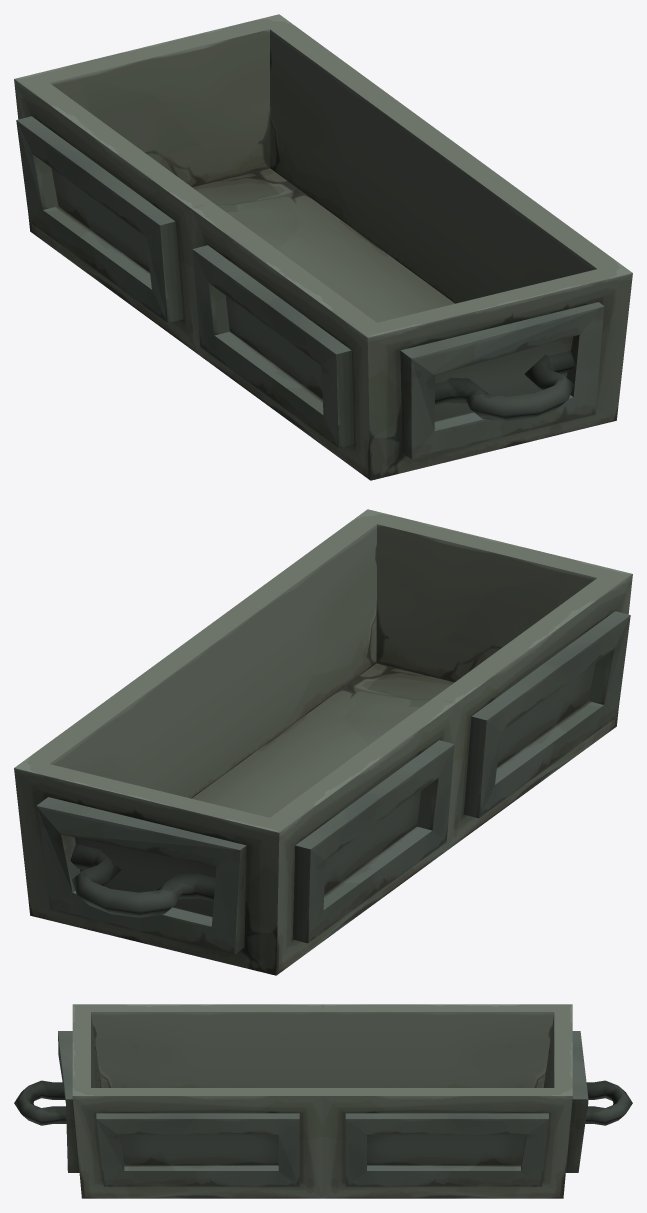
Rendered from Dg_01_StoneCoffin_001.FBX.
The picture shows the model from 3 angles, top to bottom: view 1: azimuth 30°, elevation 25°; view 2: azimuth 150°, elevation 25°; view 3: azimuth 270°, elevation 25°; orthographic projection. The views are drawn at different scales.
Parts seen in each view (by area): view 1: Dg_01_StoneCoffin_001; view 2: Dg_01_StoneCoffin_001; view 3: Dg_01_StoneCoffin_001.
Part boxes in pixels (box(x1,y1,x2,y2)): Dg_01_StoneCoffin_001: box(14, 14, 632, 480); Dg_01_StoneCoffin_001: box(14, 509, 632, 975); Dg_01_StoneCoffin_001: box(14, 1004, 632, 1198).
Size of the model in its own units: 1.38 by 0.6715 by 3.55.
